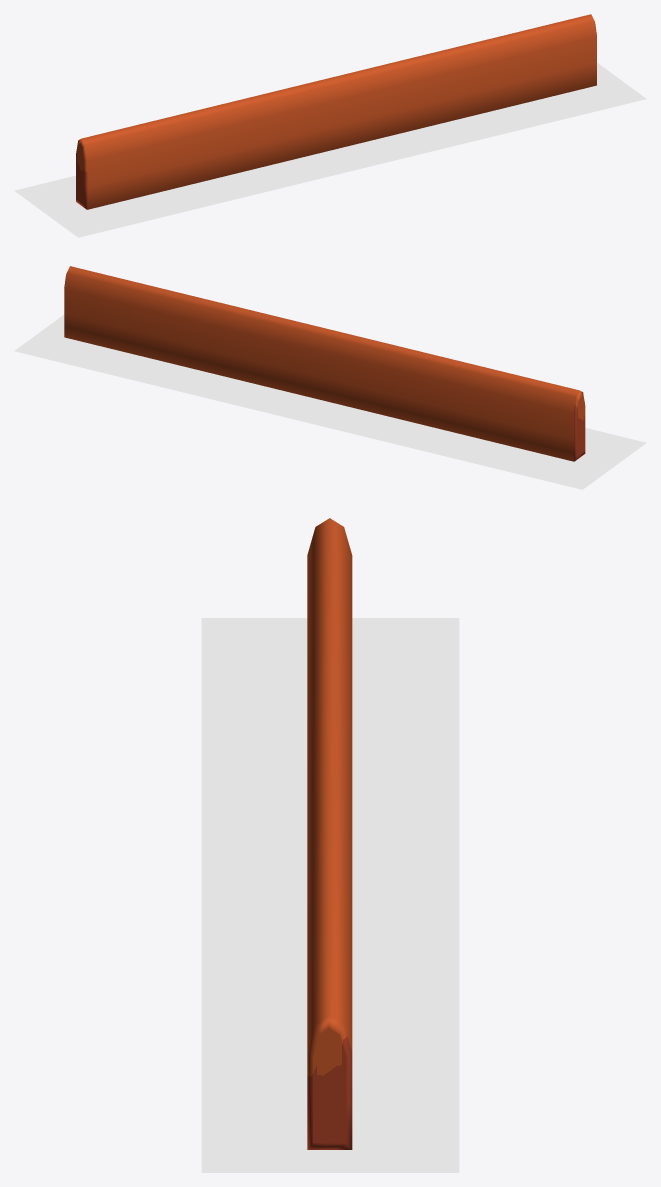
Rendered from NormalContent.fbx.
3 renders of one model, top to bottom at view 1: azimuth 30°, elevation 25°; view 2: azimuth 150°, elevation 25°; view 3: azimuth 270°, elevation 25°, orthographic. The views are drawn at different scales.
Parts seen in each view (by area): view 1: BasicObstacle, Shadow; view 2: BasicObstacle, Shadow; view 3: Shadow, BasicObstacle.
Part boxes in pixels (x1,y1,x2,y2): BasicObstacle: (76,14,596,209); Shadow: (14,63,646,237); BasicObstacle: (64,266,585,461); Shadow: (14,314,646,489); Shadow: (201,618,459,1172); BasicObstacle: (307,518,352,1149).
Bounding box in the file's own units: 3.47 × 0.3992 × 0.6805.
2 materials, 2 textured.
